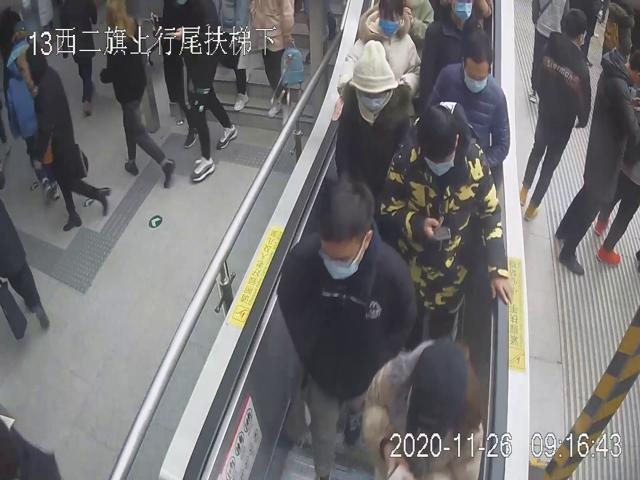person: (275, 173, 418, 480), (379, 104, 513, 349), (519, 4, 593, 224), (333, 36, 416, 193), (424, 28, 511, 170), (337, 0, 421, 99)
